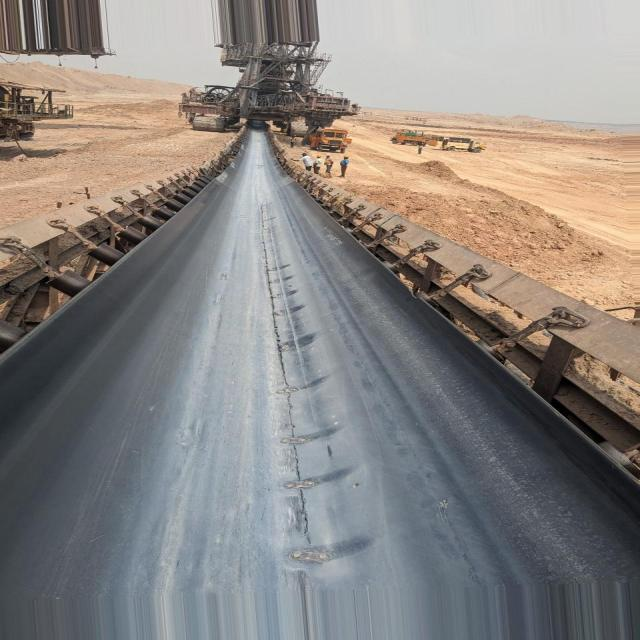Human: (290, 153, 312, 170), (339, 156, 349, 178), (314, 155, 322, 173), (325, 154, 331, 174), (289, 136, 297, 148)
Roller: (0, 178, 204, 350)
patch work: (247, 215, 358, 568)
